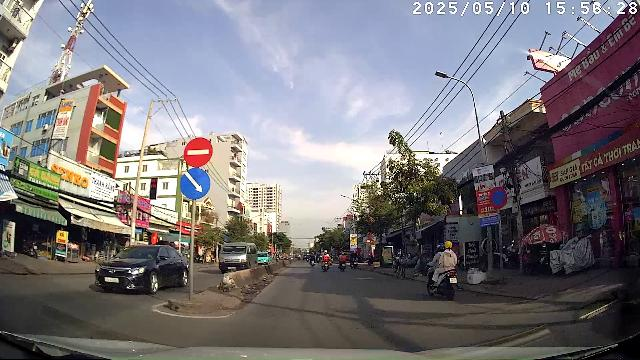130-cam-dung-va-do-xe: (183, 137, 214, 167), (489, 186, 508, 209)
302a-huong-phai-di-vong-chuong-ngai-vat-1: (179, 167, 212, 200)
